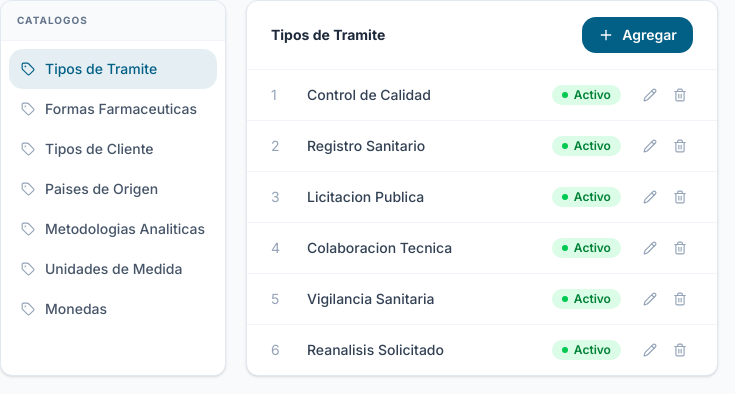
Test: Navegación de catálogos › clicking Formas Farmaceuticas shows Tableta
Click the button "Formas Farmaceuticas". click: coordinates (113, 109)
box: [9,89,217,129]
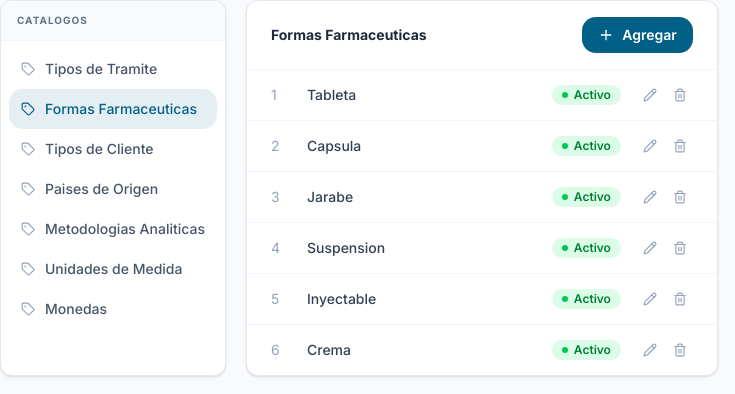
Expected: the text "Tableta" is shown, [307,86,356,103]
